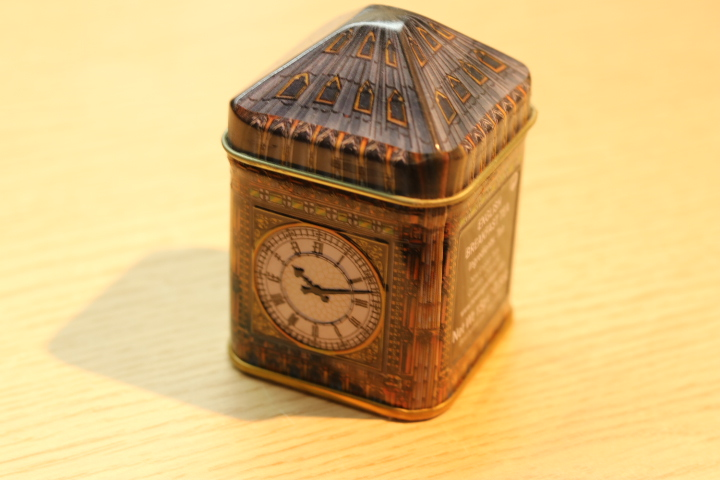Big Ben: (202, 1, 590, 433)
